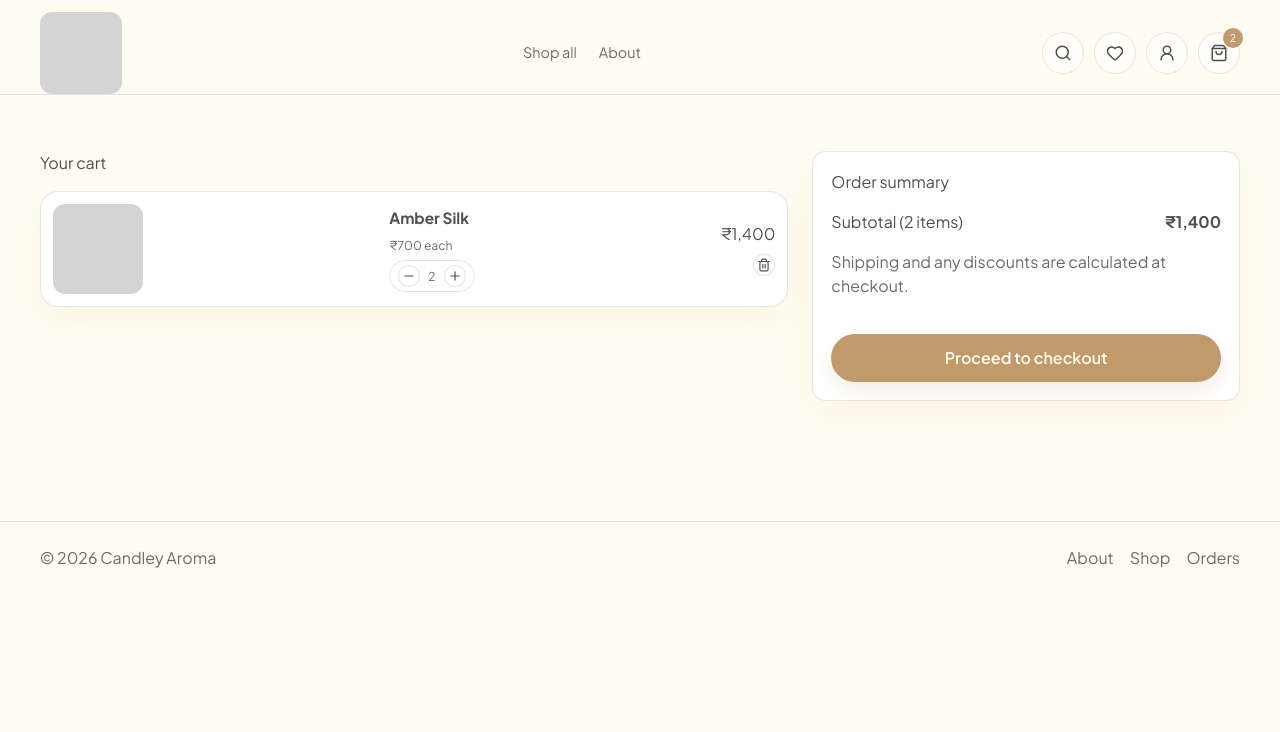
Test: cart › updates quantity optimistically and keeps the server result
Click the button named "increase" at (454, 276), box left=444, top=265, right=466, bottom=287
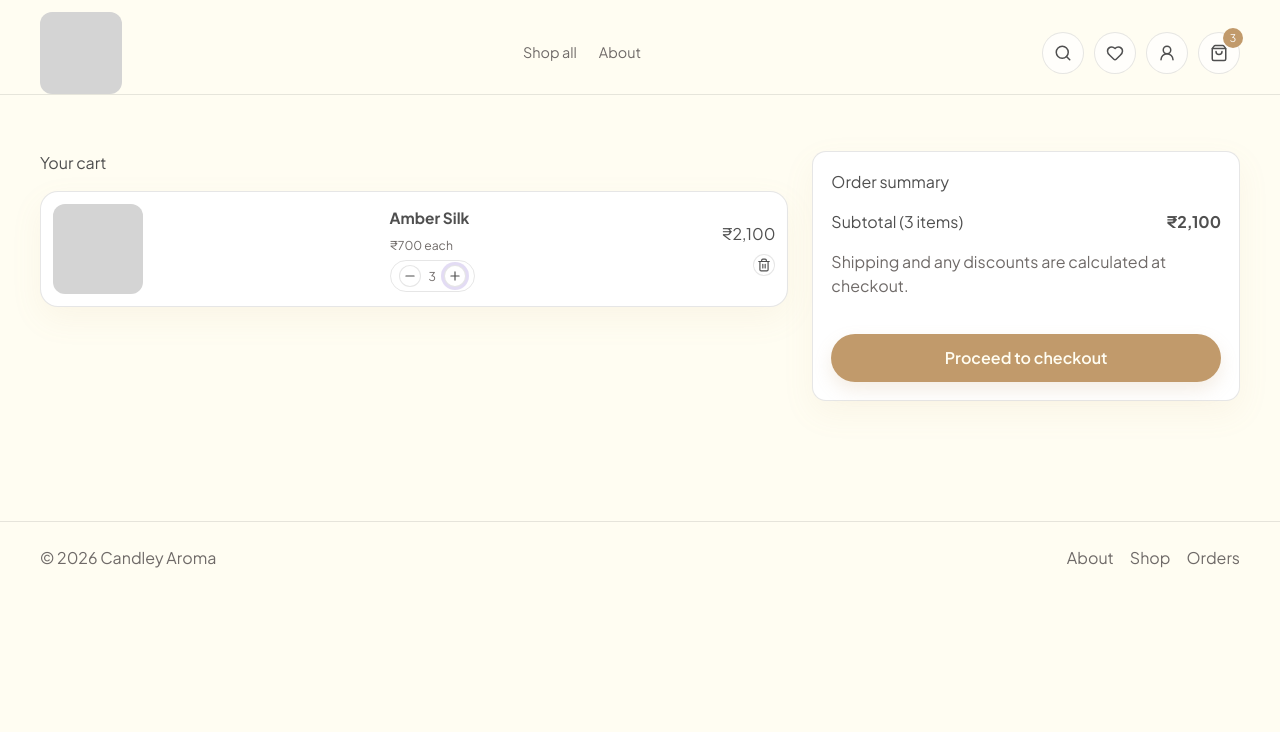
Expected: the text "Updating…" in the row of "items" is shown, left=1166, top=210, right=1221, bottom=234
Expected: the text "3" below "₹700" is shown, left=428, top=268, right=436, bottom=284
Expected: the text "₹2,100" in the row of "Amber Silk" is shown, left=722, top=223, right=775, bottom=244
